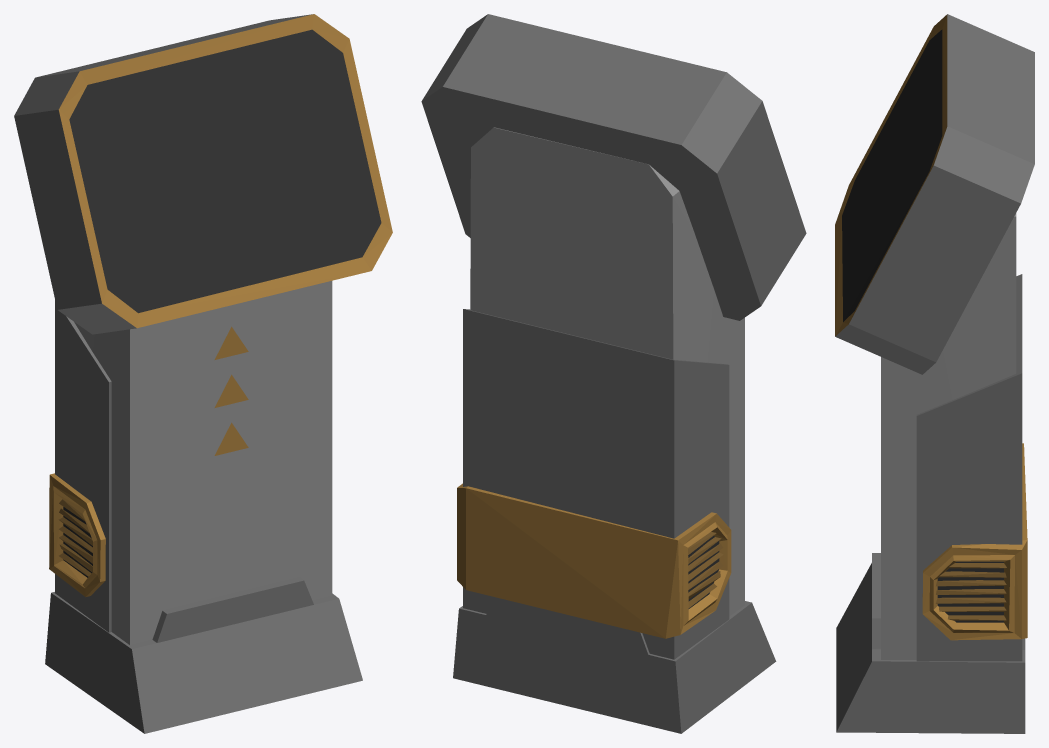
The model's file is kit_computer_small.glb.
3 renders of one model, left to right at view 1: azimuth 30°, elevation 25°; view 2: azimuth 150°, elevation 25°; view 3: azimuth 270°, elevation 25°, orthographic. The views are drawn at different scales.
Parts seen in each view (by area): view 1: kit_computer_small; view 2: kit_computer_small; view 3: kit_computer_small.
Part boxes in pixels (x1,y1,x2,y2): kit_computer_small: (14,14,392,733); kit_computer_small: (421,14,806,733); kit_computer_small: (835,14,1034,733).
Bounding box in the file's own units: 0.7512 × 1.54 × 0.4564.
